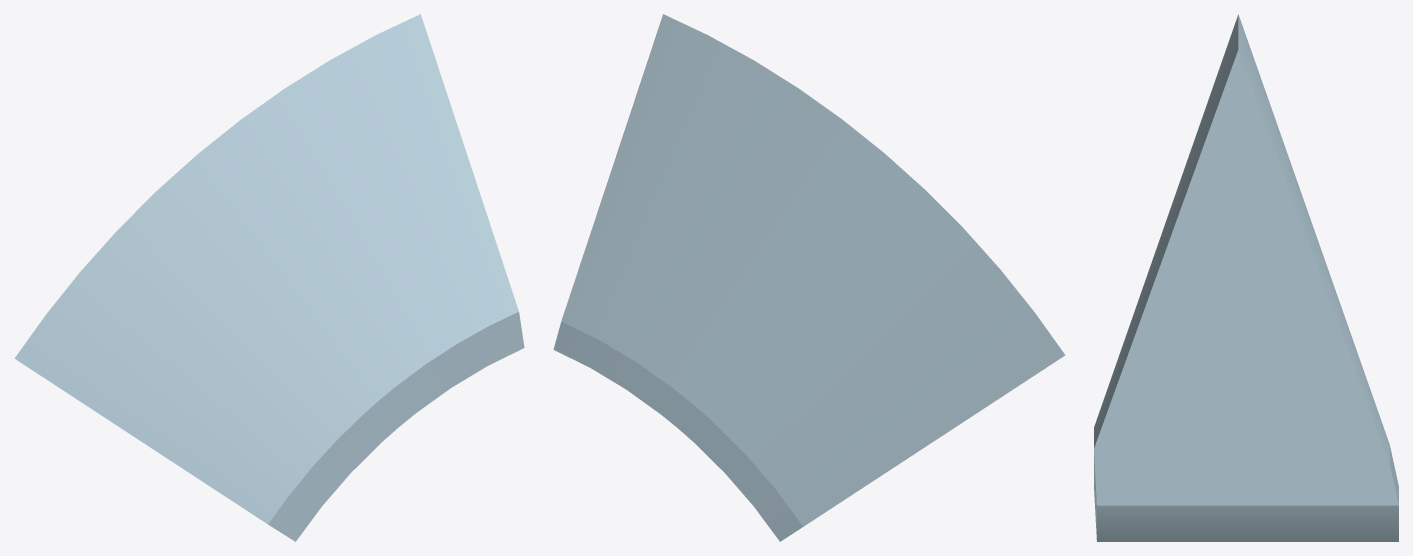
Rendered from Sub_6_Cell_1_2.gltf.
3 views of the same model, side by side, from view 1: azimuth 30°, elevation 25°; view 2: azimuth 150°, elevation 25°; view 3: azimuth 270°, elevation 25° (orthographic). The views are drawn at different scales.
Parts seen in each view (by area): view 1: Sub_6_Cell_1_2; view 2: Sub_6_Cell_1_2; view 3: Sub_6_Cell_1_2.
Part boxes in pixels (x1=…): Sub_6_Cell_1_2: x1=14, y1=14, x2=524, y2=541; Sub_6_Cell_1_2: x1=553, y1=14, x2=1065, y2=541; Sub_6_Cell_1_2: x1=1094, y1=14, x2=1398, y2=541.
Size of the model in its own units: 0.0875 by 0.0815 by 0.0369.
